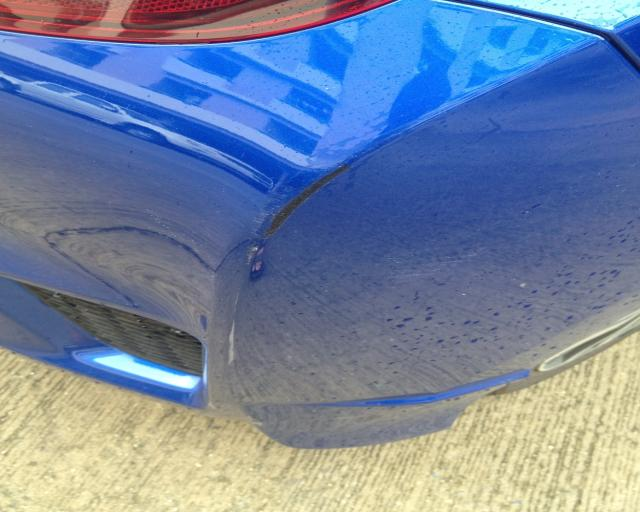scratch: (235, 154, 361, 280)
